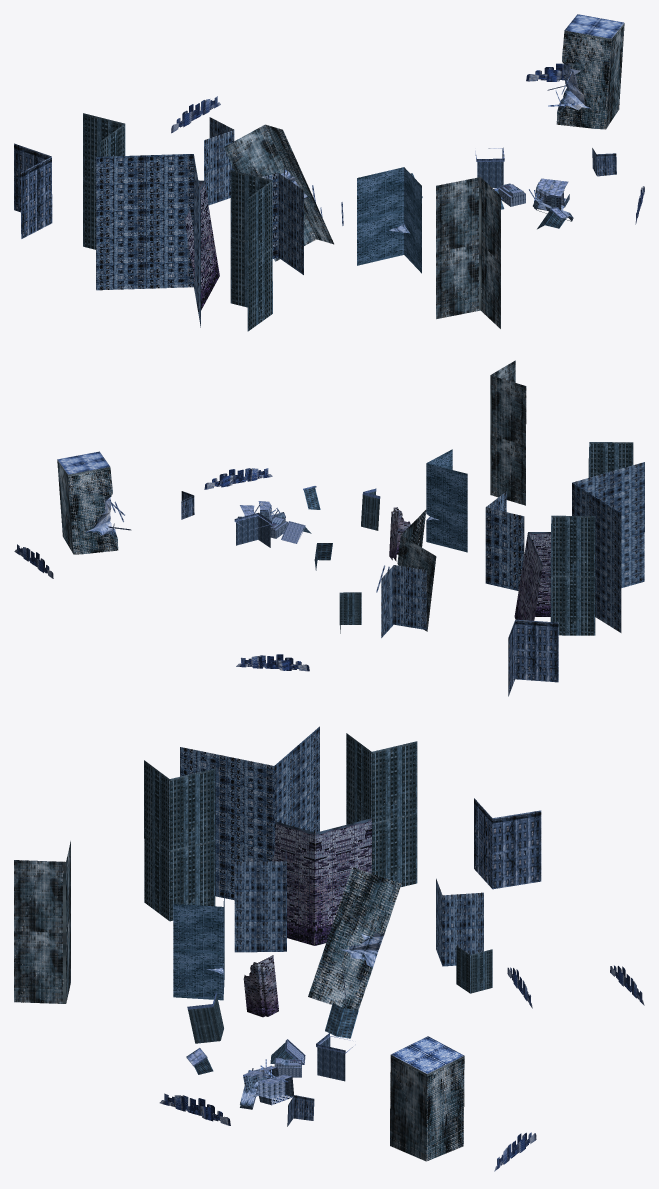
File: Sunken City Night.fbx
3 views of the same model, one above another, from view 1: azimuth 30°, elevation 25°; view 2: azimuth 150°, elevation 25°; view 3: azimuth 270°, elevation 25° (orthographic). The views are drawn at different scales.
Parts seen in each view (by area): view 1: object_41, object_55, object_57, object_2, object_35, object_53, object_54, object_58, object_4, object_56, object_38, object_5 (+6 smaller); view 2: object_55, object_57, object_53, object_35, object_41, object_2, object_38, object_54, object_52, object_56, object_0, object_4 (+6 smaller); view 3: object_55, object_53, object_38, object_58, object_35, object_5, object_54, object_2, object_41, object_56, object_0, object_36 (+8 smaller).
Boxes of the visible parts, bbox=[...] form: object_41: bbox=[95, 154, 569, 290]; object_55: bbox=[83, 113, 272, 331]; object_57: bbox=[436, 177, 480, 319]; object_2: bbox=[357, 167, 421, 273]; object_35: bbox=[556, 23, 624, 129]; object_53: bbox=[193, 154, 303, 327]; object_54: bbox=[14, 143, 52, 238]; object_58: bbox=[480, 177, 500, 328]; object_4: bbox=[224, 125, 316, 261]; object_56: bbox=[204, 117, 234, 205]; object_38: bbox=[184, 180, 219, 310]; object_5: bbox=[265, 124, 333, 244]; object_55: bbox=[550, 442, 633, 635]; object_57: bbox=[490, 375, 526, 505]; object_53: bbox=[486, 462, 644, 587]; object_35: bbox=[57, 460, 118, 554]; object_41: bbox=[237, 483, 621, 632]; object_2: bbox=[426, 449, 467, 552]; object_38: bbox=[389, 507, 550, 620]; object_54: bbox=[508, 619, 558, 696]; object_52: bbox=[485, 507, 524, 590]; object_56: bbox=[381, 565, 426, 637]; object_0: bbox=[14, 468, 309, 671]; object_4: bbox=[397, 535, 436, 631]; object_55: bbox=[144, 733, 417, 921]; object_53: bbox=[180, 747, 286, 952]; object_38: bbox=[243, 818, 371, 1017]; object_58: bbox=[14, 860, 66, 1003]; object_35: bbox=[390, 1055, 464, 1161]; object_5: bbox=[308, 867, 401, 1010]; object_54: bbox=[474, 798, 541, 889]; object_2: bbox=[173, 887, 224, 1000]; object_41: bbox=[243, 726, 319, 1105]; object_56: bbox=[436, 878, 483, 966]; object_0: bbox=[159, 965, 644, 1171]; object_36: bbox=[260, 1036, 464, 1073].
Size of what is drawn, in the model's own units: 84411 by 22791 by 72371.
